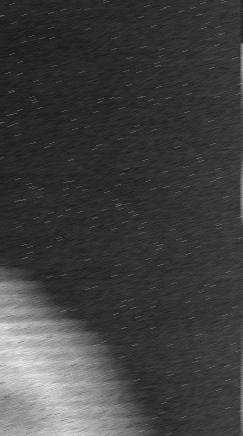Airbag: (0, 0, 242, 436), (242, 33, 243, 436)
